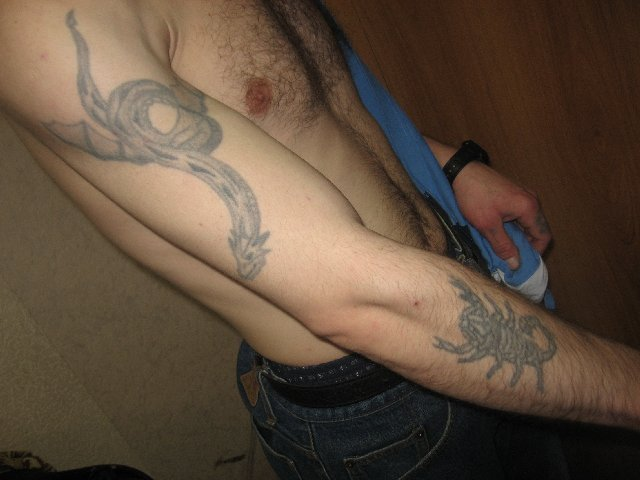tatu6_drakon: (31, 9, 283, 292)
